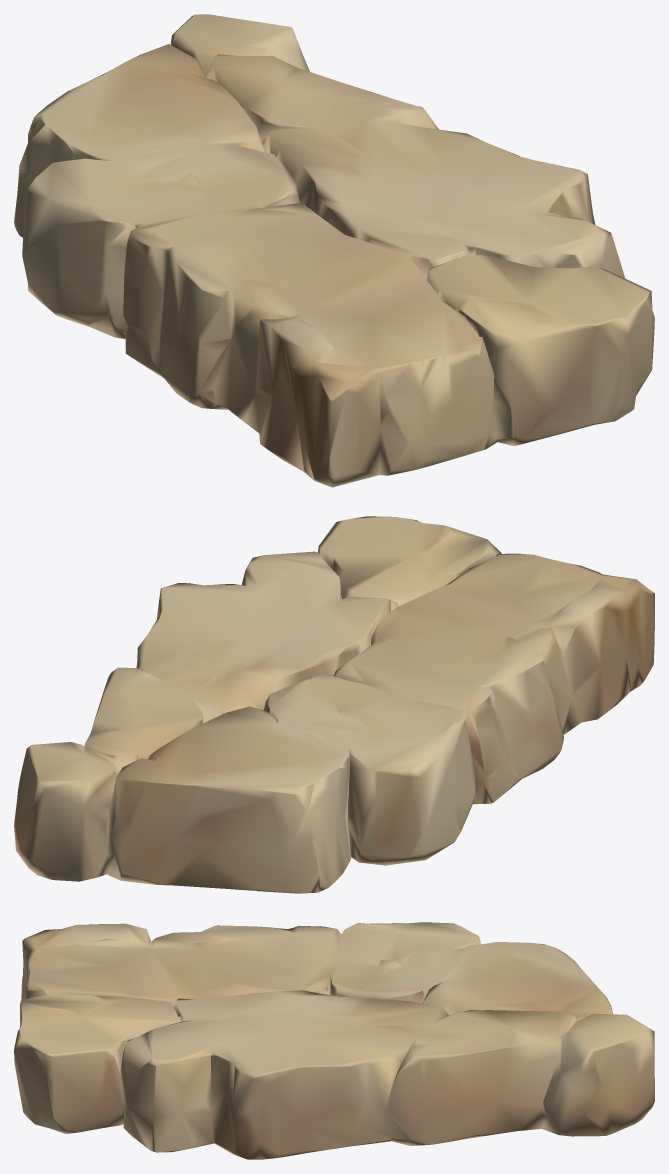
Rendered from SandstoneCliff_game.glb.
The picture shows the model from 3 angles, top to bottom: view 1: azimuth 30°, elevation 25°; view 2: azimuth 150°, elevation 25°; view 3: azimuth 270°, elevation 25°; orthographic projection. The views are drawn at different scales.
Visible parts, largest first — view 1: SandstoneCliff; view 2: SandstoneCliff; view 3: SandstoneCliff.
Part boxes in pixels (bbox=[...]): SandstoneCliff: bbox=[14, 14, 654, 487]; SandstoneCliff: bbox=[14, 516, 654, 893]; SandstoneCliff: bbox=[14, 922, 654, 1159].
Bounding box in the file's own units: 0.6496 × 0.1654 × 1.08.
